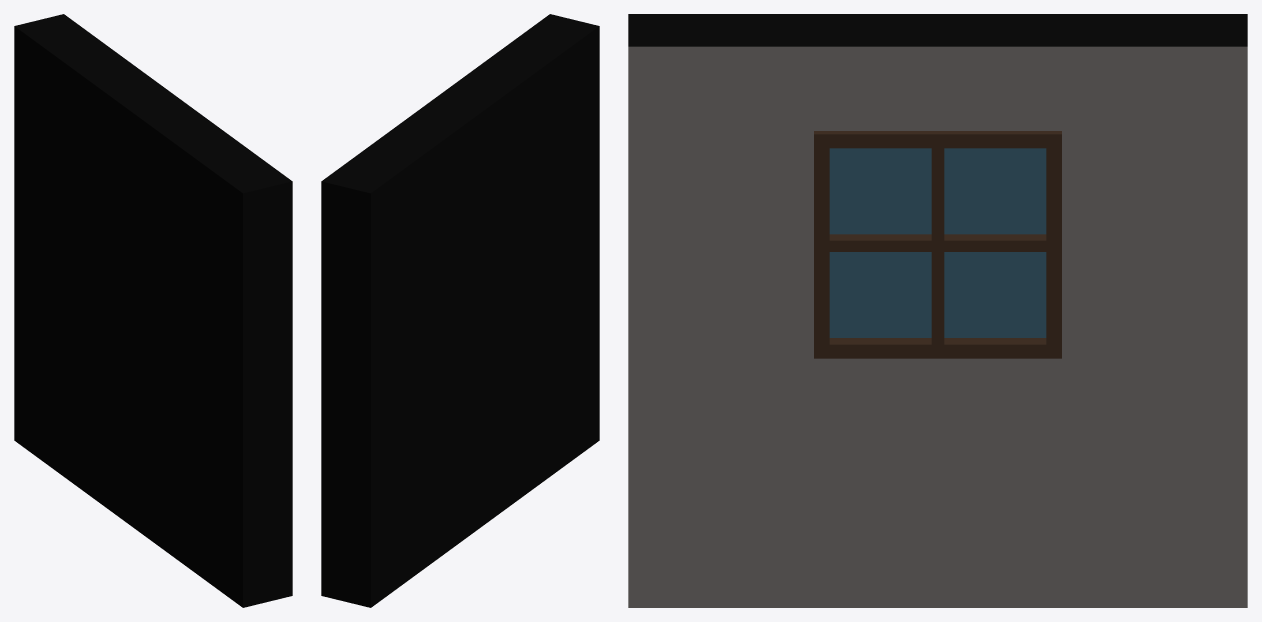
The picture shows the model from 3 angles, left to right: view 1: azimuth 30°, elevation 25°; view 2: azimuth 150°, elevation 25°; view 3: azimuth 270°, elevation 25°; orthographic projection. The views are drawn at different scales.
Visible parts, largest first — view 1: floor_wall.008; view 2: floor_wall.008; view 3: floor_wall.008.
Part boxes in pixels (x1,y1,x2,y2): floor_wall.008: (14,14,292,607); floor_wall.008: (321,14,599,607); floor_wall.008: (628,14,1247,607).
Bounding box in the file's own units: 27.5 × 200 × 200.
